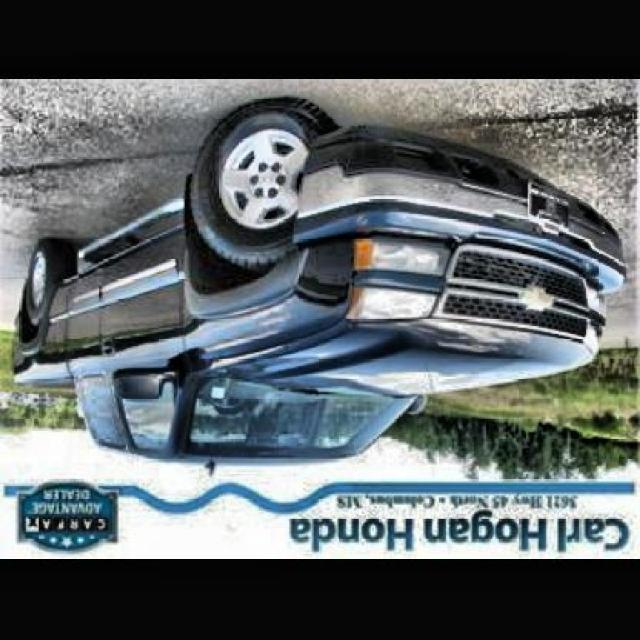black: (12, 102, 624, 461)
